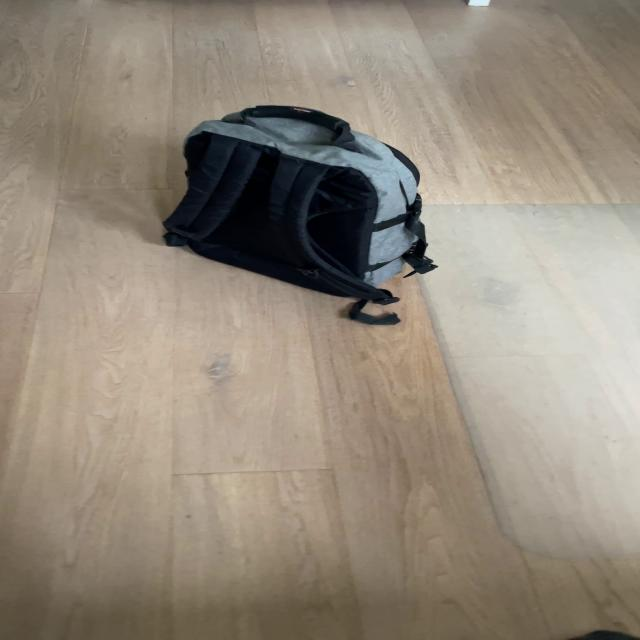backpack: (163, 100, 444, 300)
